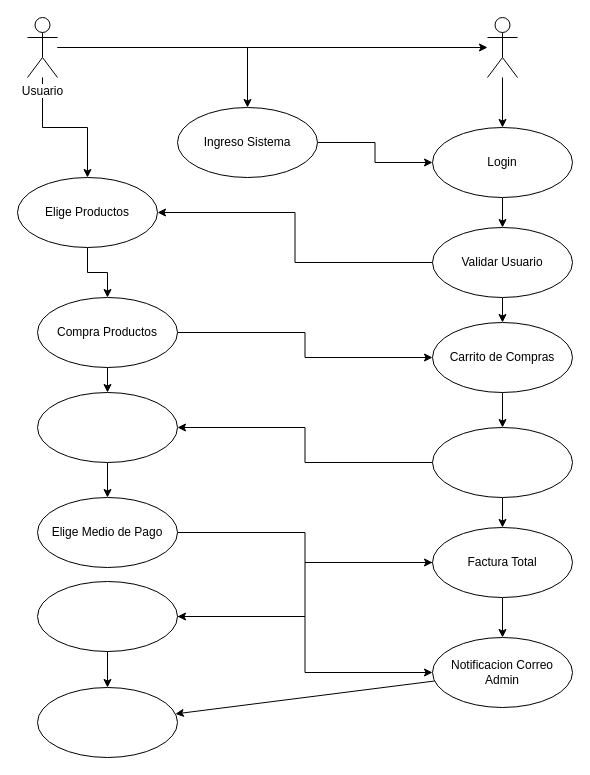
This 590x775 diagram has some shape labels left out. The shapes that lost their labels are listed below. From the top down, each one's box as (x1, y1, x2, y2) in pixels, then its label:
(486, 16, 518, 78): Sistema
(36, 392, 178, 462): Cupones de Descuento
(432, 426, 572, 498): Subtotal
(36, 580, 178, 652): Pago Factura
(36, 686, 178, 758): Factura Electronica Usuario
